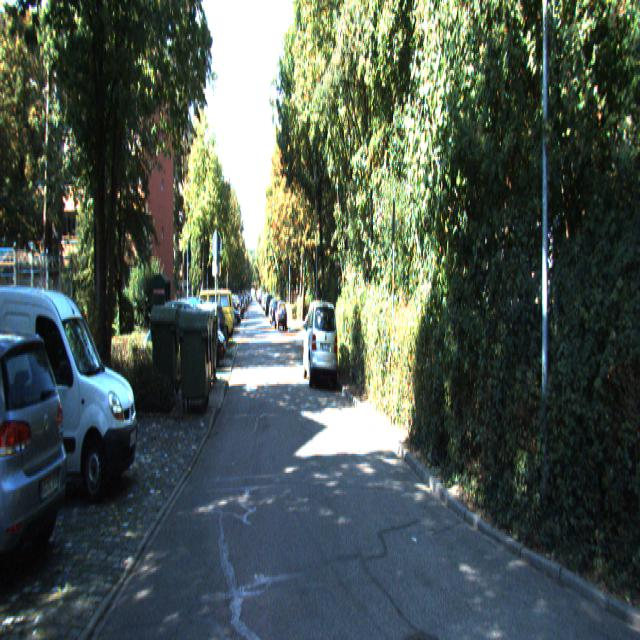Car: (0, 282, 141, 508), (0, 319, 73, 596), (302, 298, 340, 391), (195, 290, 234, 348), (274, 302, 288, 331)
